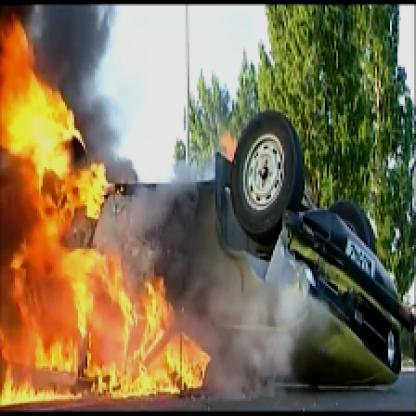Fire: (2, 9, 212, 410)
